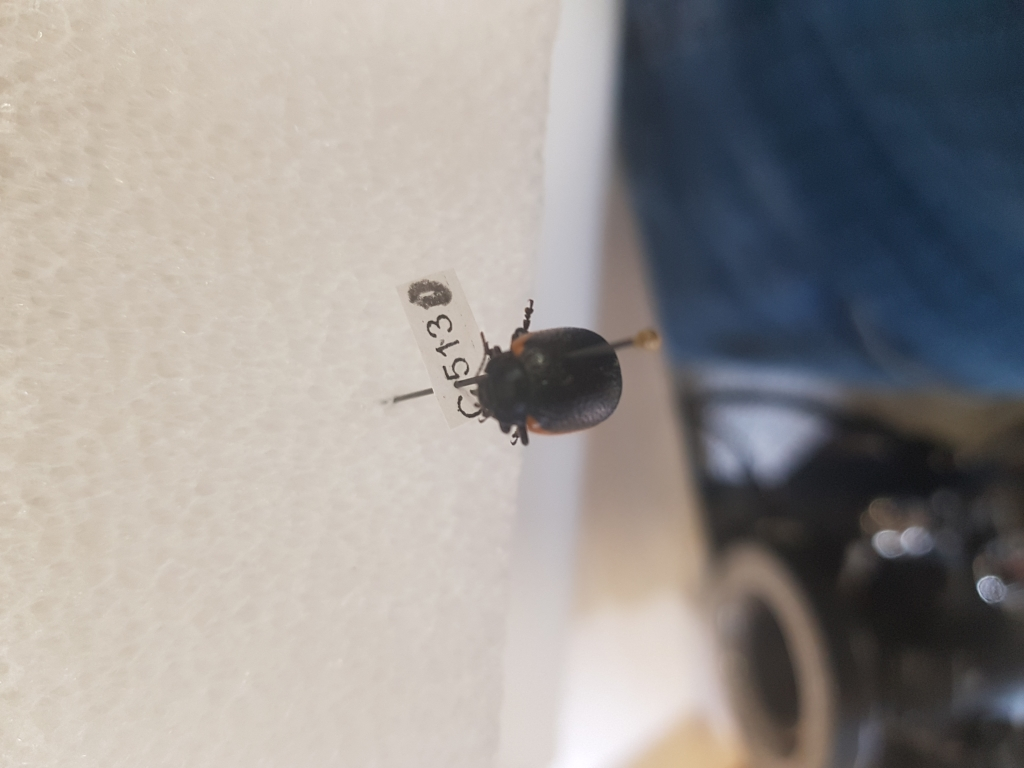Chrysolina_gypsophila: (473, 298, 628, 451)
